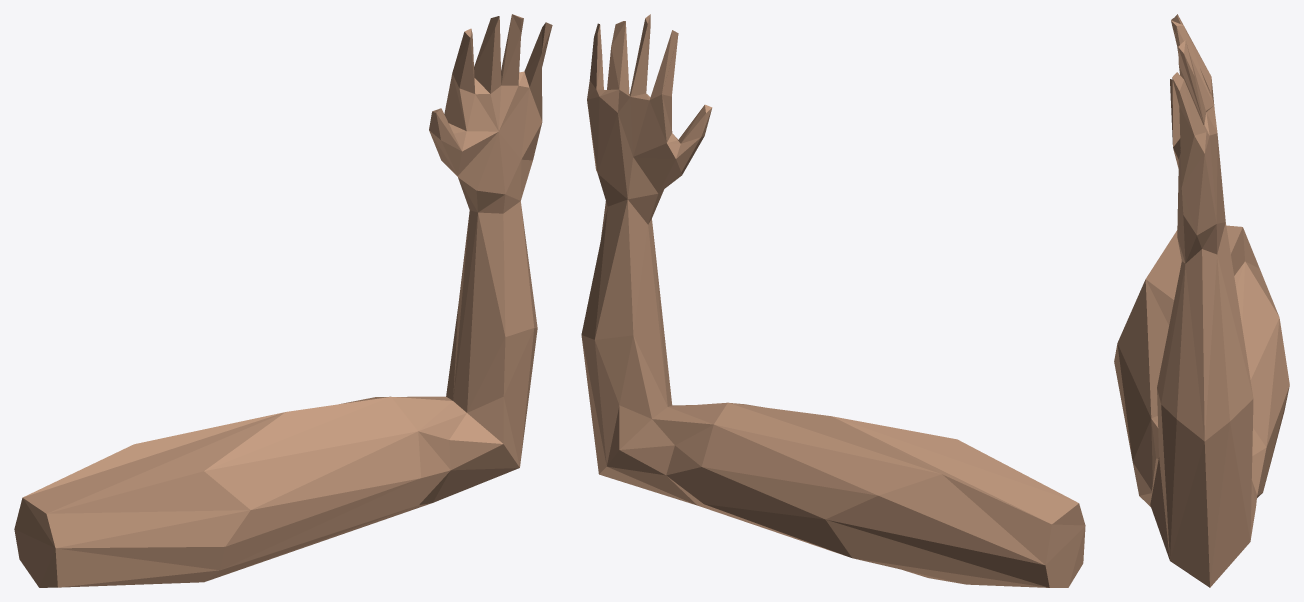
File: strokeRehab.glb
3 renders of one model, left to right at view 1: azimuth 30°, elevation 25°; view 2: azimuth 150°, elevation 25°; view 3: azimuth 270°, elevation 25°, orthographic. The views are drawn at different scales.
Visible parts, largest first — view 1: strokeRehab; view 2: strokeRehab; view 3: strokeRehab.
Boxes of the visible parts, x1=… form: strokeRehab: x1=14, y1=14, x2=552, y2=587; strokeRehab: x1=581, y1=14, x2=1085, y2=587; strokeRehab: x1=1114, y1=14, x2=1289, y2=587.
Bounding box in the file's own units: 18.25 × 17.31 × 4.77.
1 material, 1 textured.
